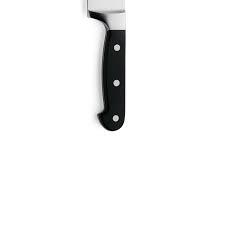Knife: (84, 0, 126, 131)
